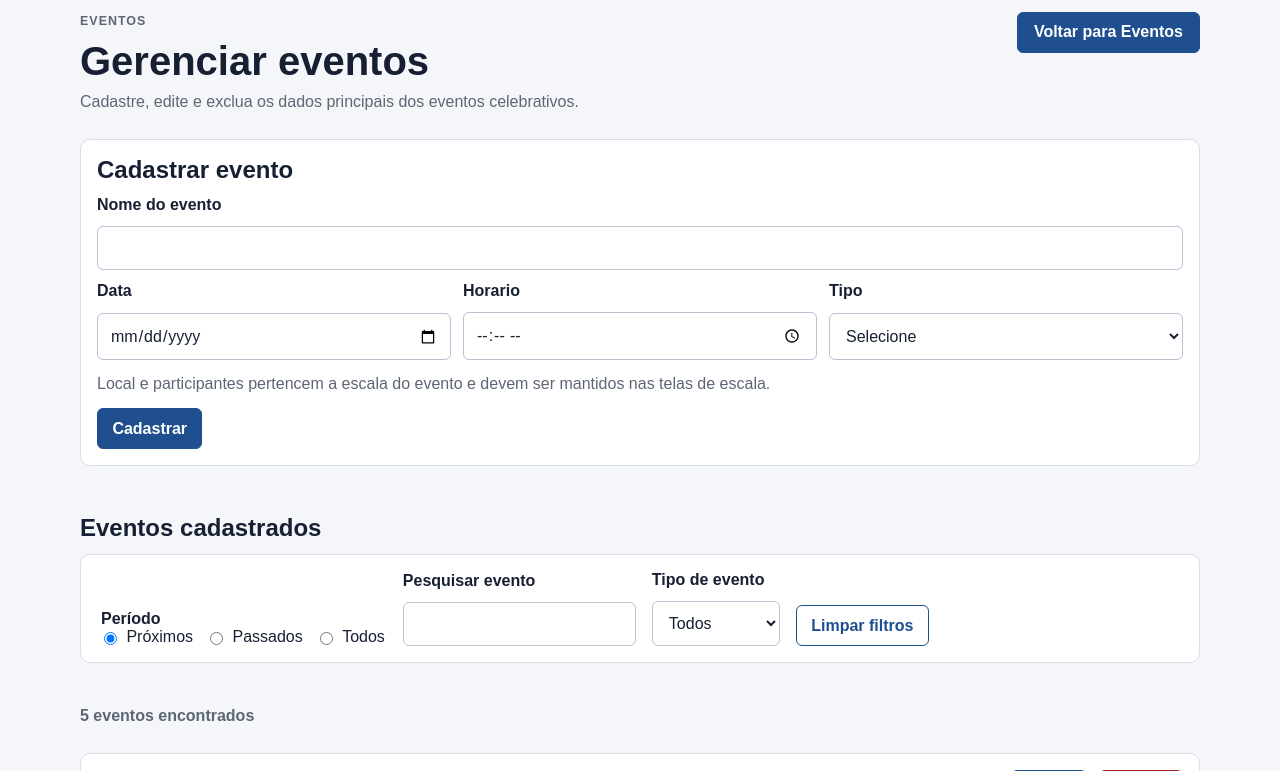
Test: EventManagementComponent › should show the plural result count
Step 1. Click the radio button labelled "Todos" → {"x": 326, "y": 639}, box [320,632,333,645]
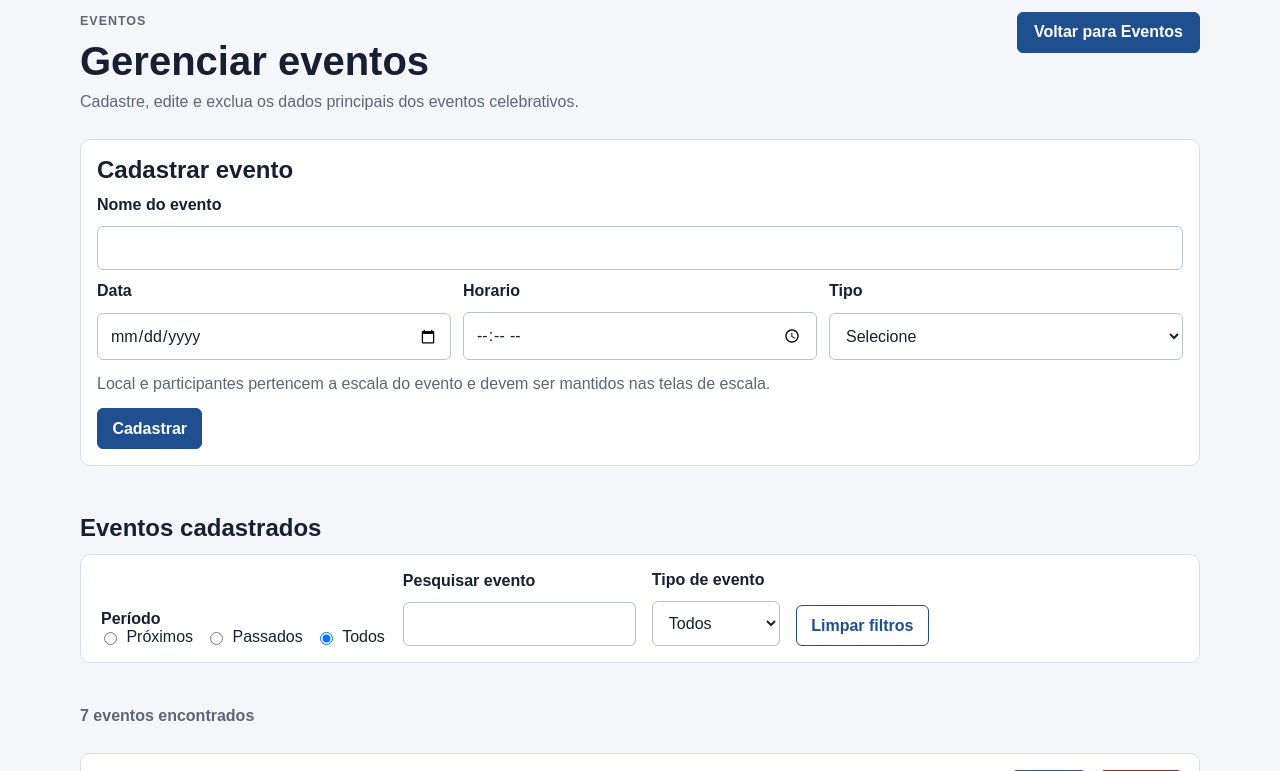
Expected: the text "7 eventos encontrados" is shown, [80,707,254,724]
